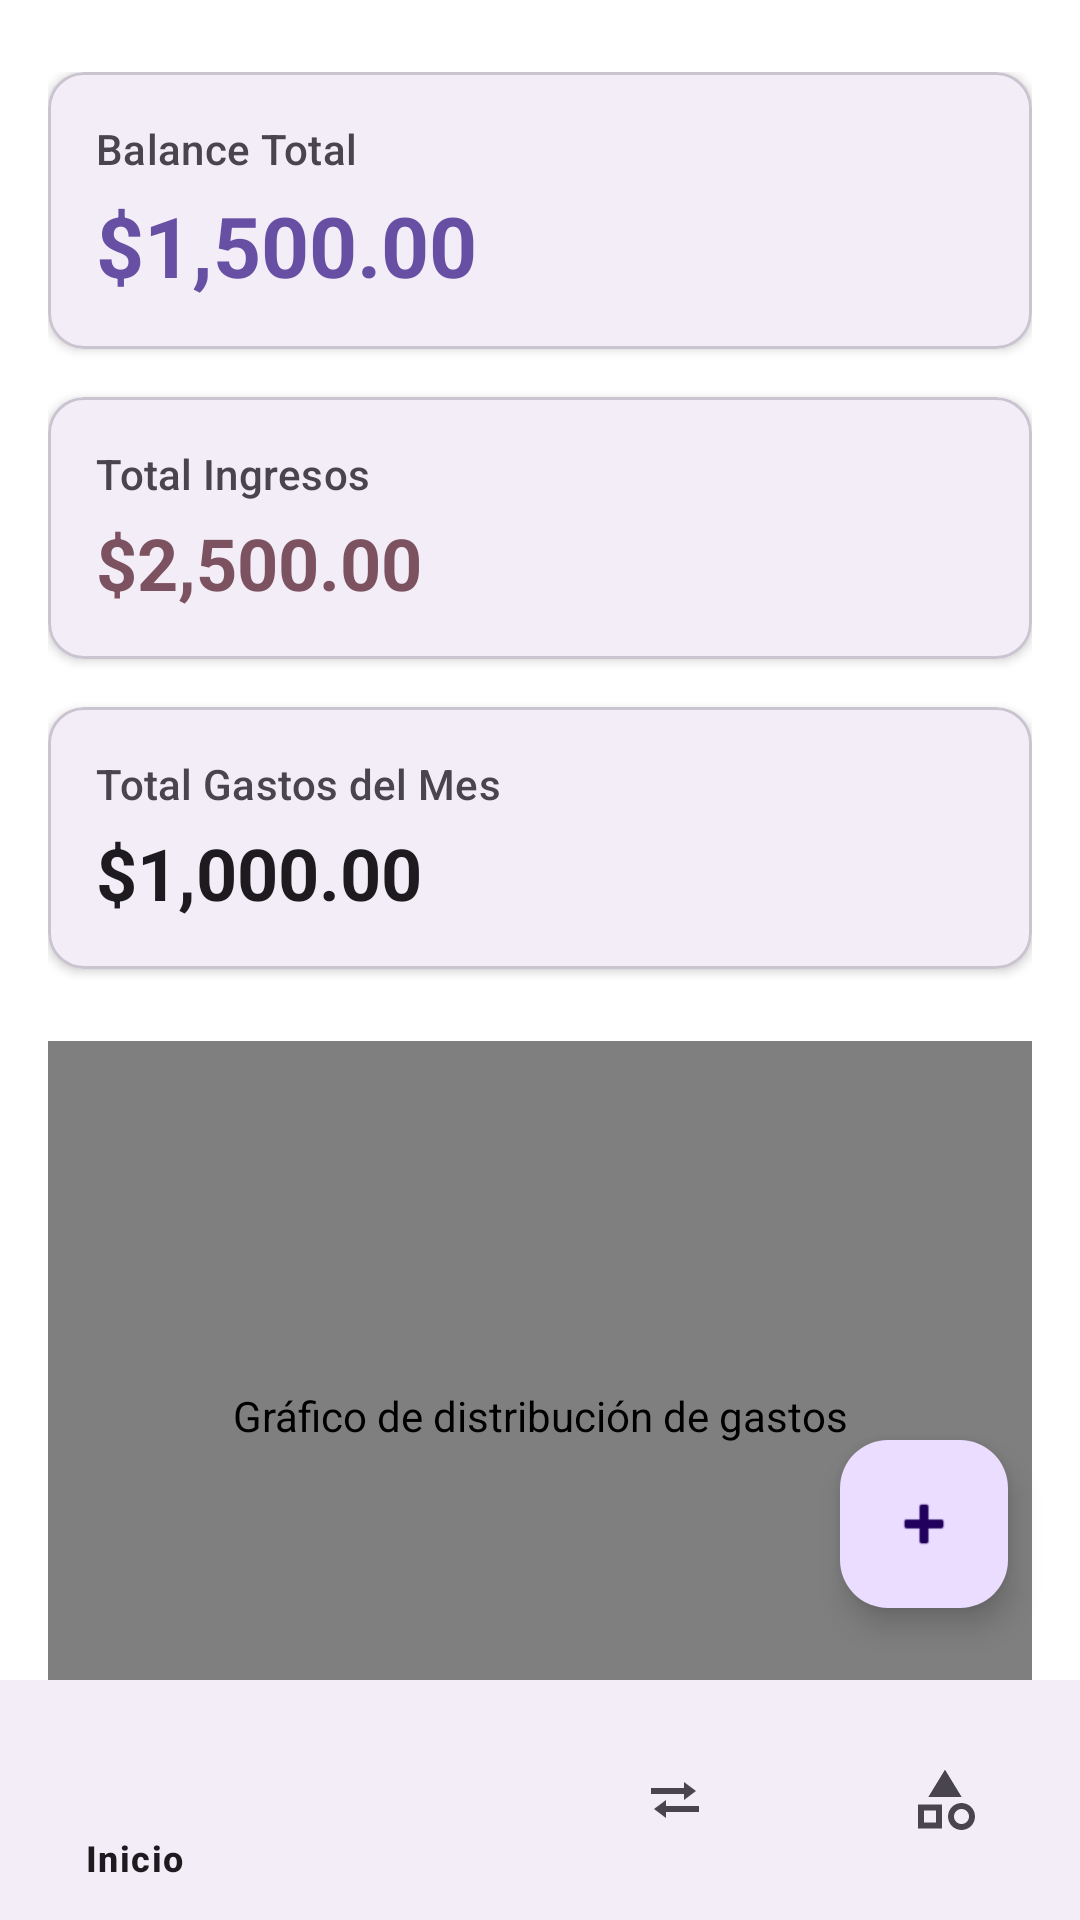

Screen size 1080*1920. Icon name, then its center in pixels as point (x, y):
Agregar Gasto: point (924, 1524)
